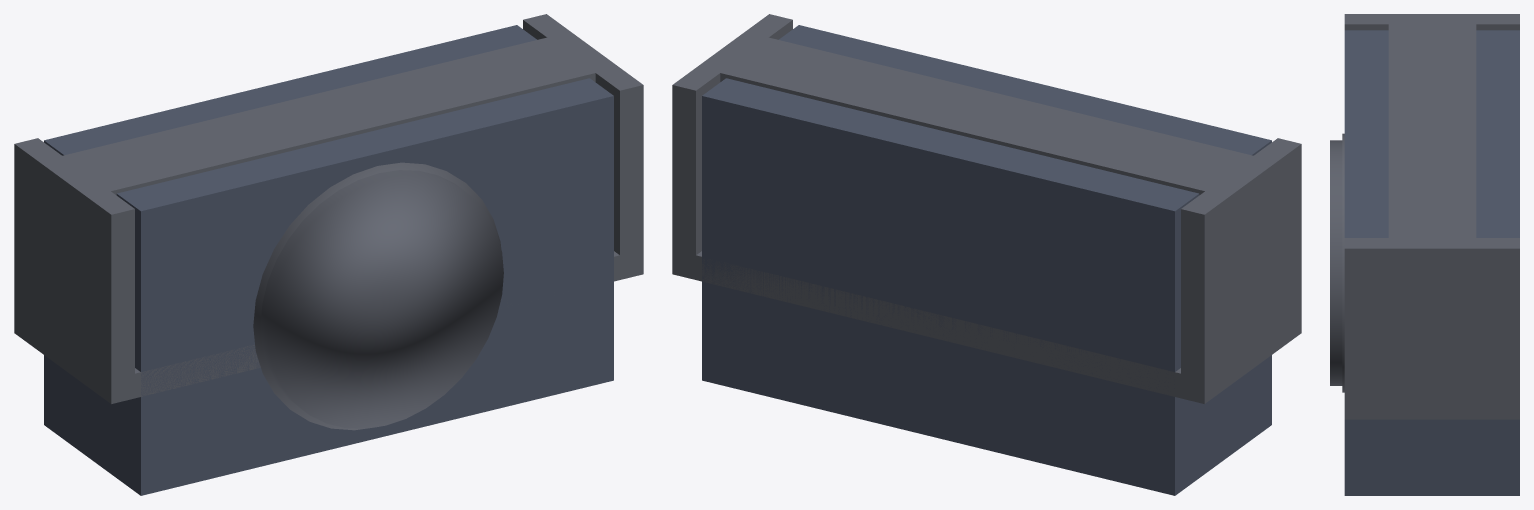
File: nanlite_forza_500b_ii.glb
3 renders of one model, left to right at view 1: azimuth 30°, elevation 25°; view 2: azimuth 150°, elevation 25°; view 3: azimuth 270°, elevation 25°, orthographic. The views are drawn at different scales.
Parts seen in each view (by area): view 1: nanlite_forza_500b_ii; view 2: nanlite_forza_500b_ii; view 3: nanlite_forza_500b_ii.
Part boxes in pixels (left/top/right/bottom): nanlite_forza_500b_ii: left=14, top=14, right=643, bottom=495; nanlite_forza_500b_ii: left=672, top=14, right=1301, bottom=495; nanlite_forza_500b_ii: left=1330, top=14, right=1519, bottom=495.
Size of the model in its own units: 0.45 by 0.253 by 0.154.
